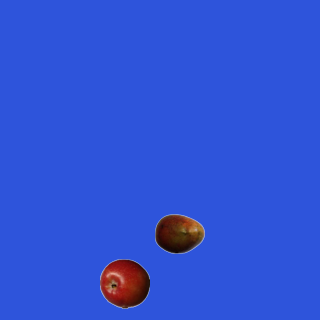Apple Braeburn: (99, 258, 149, 308)
Mango Red: (154, 208, 204, 258)
